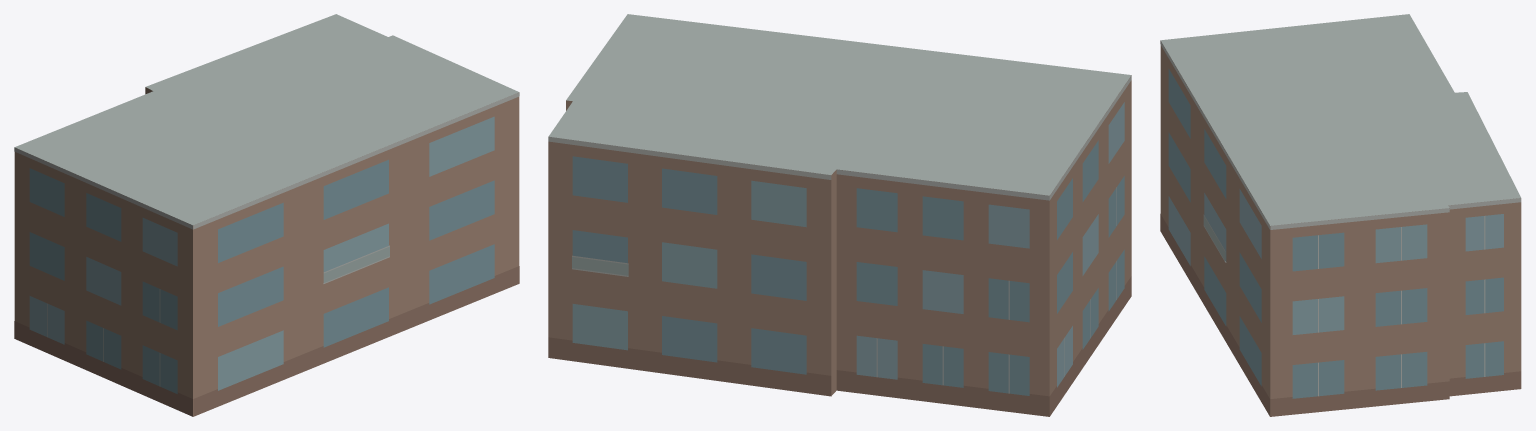
The model's file is survey-upis-33010086.glb.
3 views of the same model, side by side, from view 1: azimuth 30°, elevation 25°; view 2: azimuth 150°, elevation 25°; view 3: azimuth 270°, elevation 25° (orthographic). The views are drawn at different scales.
Visible parts, largest first — view 1: survey-upis-33010086.tmp; view 2: survey-upis-33010086.tmp; view 3: survey-upis-33010086.tmp.
Part boxes in pixels (x1=…): survey-upis-33010086.tmp: x1=14, y1=14, x2=519, y2=416; survey-upis-33010086.tmp: x1=548, y1=14, x2=1131, y2=416; survey-upis-33010086.tmp: x1=1160, y1=14, x2=1521, y2=416.
Bounding box in the file's own units: 26.17 × 11 × 18.84.
